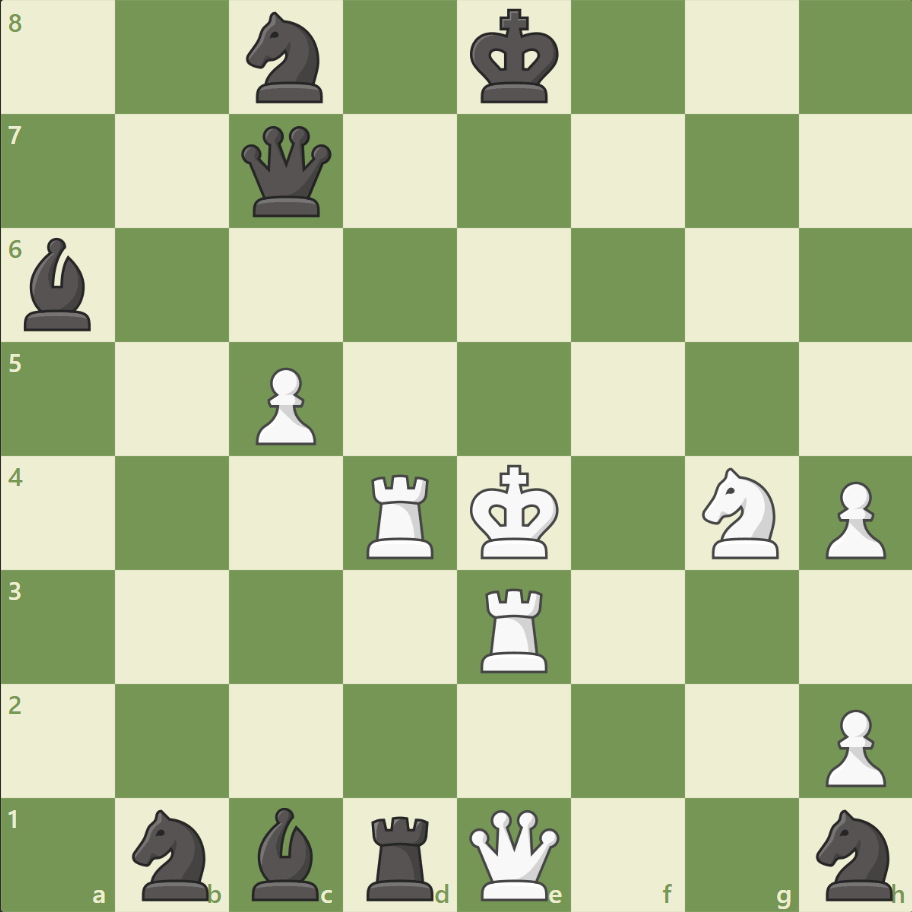K: (465, 458, 565, 566)
N: (692, 461, 789, 564)
P: (247, 359, 322, 450), (815, 473, 889, 564), (815, 700, 889, 791)
Q: (464, 804, 563, 903)
R: (473, 579, 556, 676), (360, 466, 442, 563)
b: (17, 233, 101, 336), (244, 801, 328, 904)
k: (465, 4, 565, 112)
n: (124, 802, 222, 904), (238, 7, 335, 110), (806, 802, 903, 904)
q: (237, 122, 336, 222)
r: (360, 806, 442, 904)
